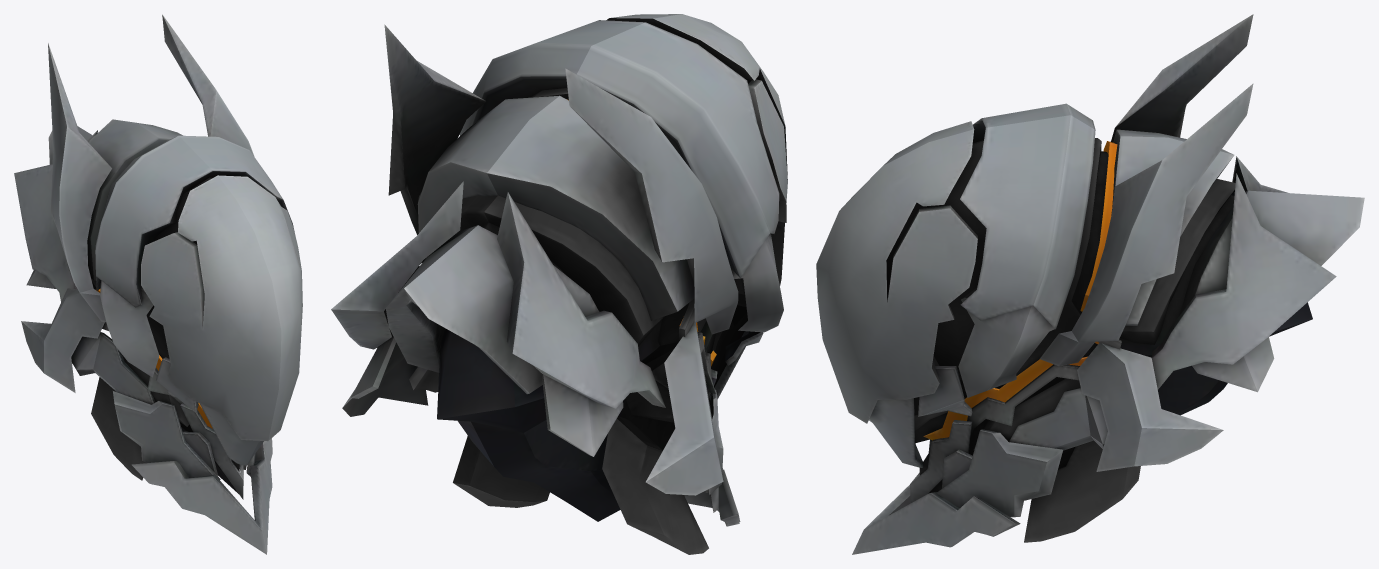
The picture shows the model from 3 angles, left to right: view 1: azimuth 30°, elevation 25°; view 2: azimuth 150°, elevation 25°; view 3: azimuth 270°, elevation 25°; orthographic projection. The views are drawn at different scales.
Parts seen in each view (by area): view 1: c90_103_00 head; view 2: c90_103_00 head; view 3: c90_103_00 head.
Part boxes in pixels (left/top/right/bottom): c90_103_00 head: left=14, top=14, right=302, bottom=554; c90_103_00 head: left=331, top=14, right=787, bottom=554; c90_103_00 head: left=816, top=14, right=1364, bottom=554.
Size of the model in its own units: 1.62 by 2.9 by 2.85.
1 material, 1 textured.
